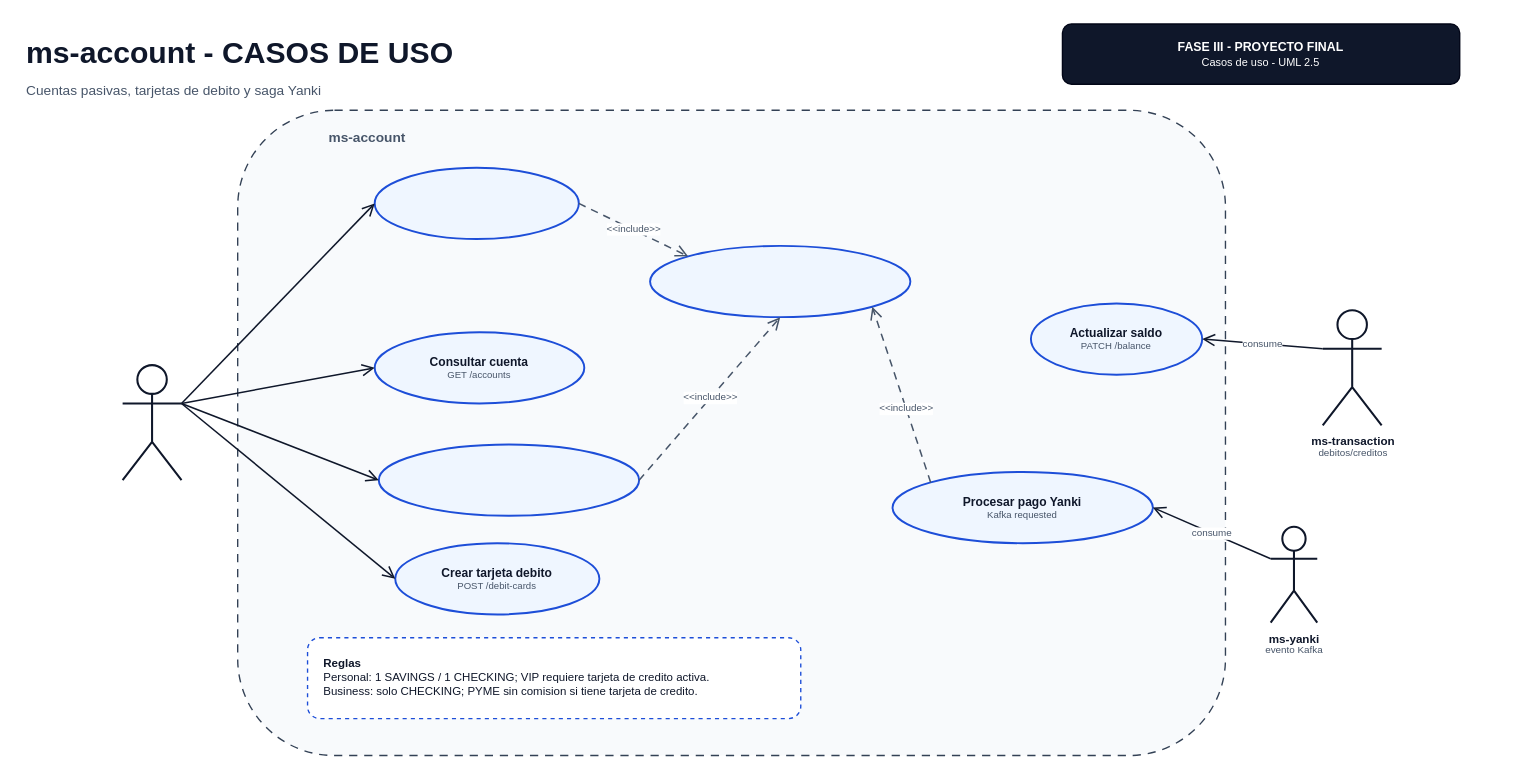
Image size: 1526x780. Some labels were removed from this diagram. Each missing label, with the box of its shape:
Cliente / Postman API: (121, 363, 182, 481)
Crear cuenta POST /accounts: (373, 166, 579, 239)
Pagar con tarjeta PATCH /debit-cards/{id}/pay: (377, 443, 639, 516)
Validar reglas VIP/PYME/PERSONAL: (648, 244, 911, 317)
